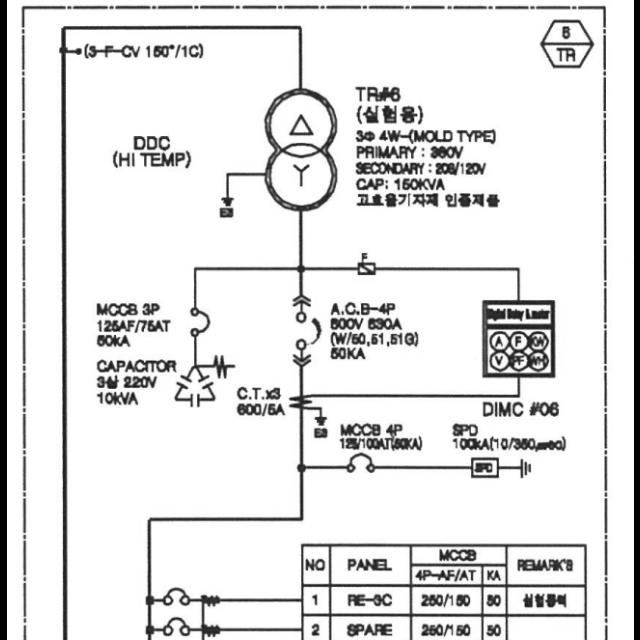CT: (289, 393, 311, 411)
GND: (519, 458, 533, 478), (312, 417, 328, 428), (220, 197, 233, 207)
MCCB: (346, 452, 374, 474), (162, 617, 190, 637), (190, 308, 208, 338), (162, 588, 190, 606)
PF2: (358, 264, 374, 274)
SC: (174, 368, 213, 407)
